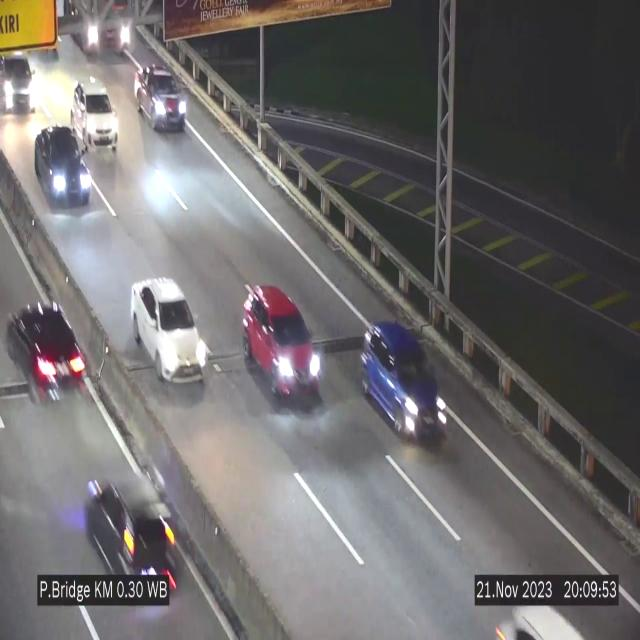Car: (80, 463, 180, 604), (361, 318, 451, 448), (0, 297, 94, 418), (243, 284, 323, 398), (131, 277, 208, 383), (35, 127, 92, 205), (134, 63, 186, 130), (72, 77, 118, 152), (0, 49, 45, 117)
Truck: (61, 0, 133, 60)
